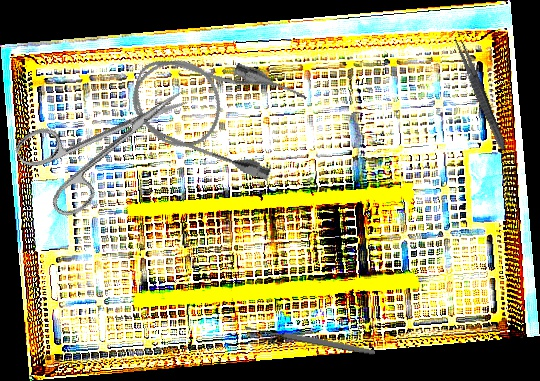Cannula: (119, 33, 311, 185)
Dressing Forceps: (450, 34, 510, 152)
Iris Scissors: (11, 58, 208, 226)
Surgical Spoon: (244, 323, 376, 357)
